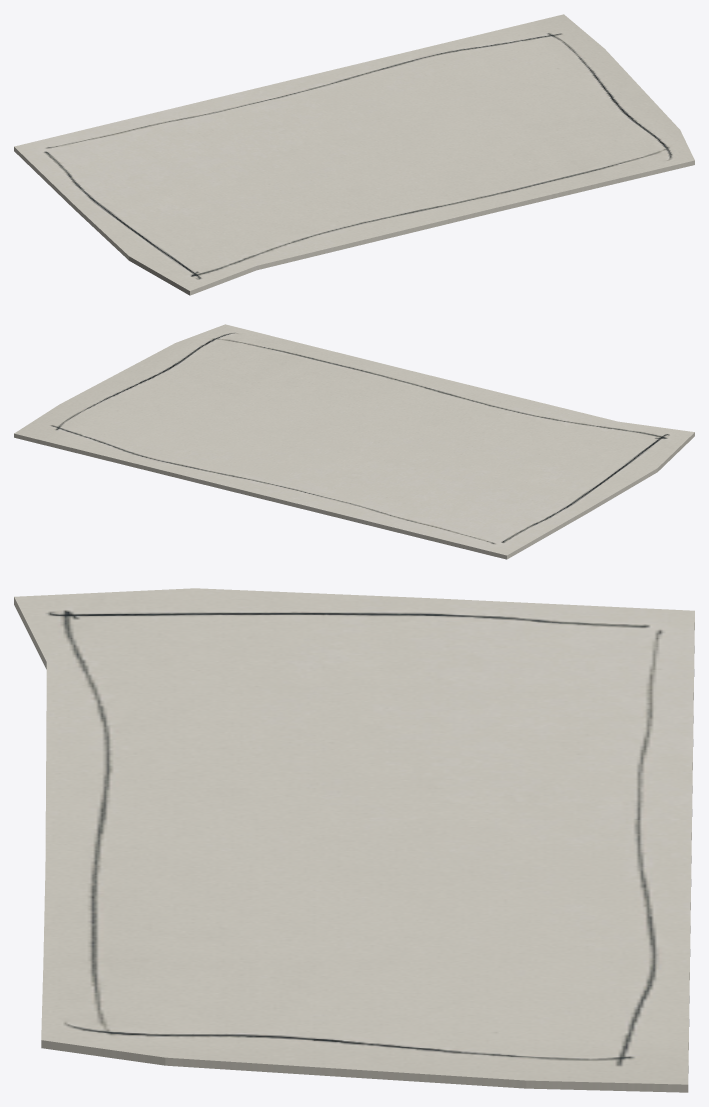
The model's file is kyoukai_kabe.fbx.
3 views of the same model, one above another, from view 1: azimuth 30°, elevation 25°; view 2: azimuth 150°, elevation 25°; view 3: azimuth 270°, elevation 25° (orthographic). The views are drawn at different scales.
Parts seen in each view (by area): view 1: Plane.003; view 2: Plane.003; view 3: Plane.003.
Boxes of the visible parts, x1=… form: Plane.003: x1=14, y1=14, x2=694, y2=295; Plane.003: x1=14, y1=324, x2=694, y2=559; Plane.003: x1=14, y1=588, x2=694, y2=1092.
Size of the model in its own units: 623 by 4.71 by 361.
1 material, 1 textured.
